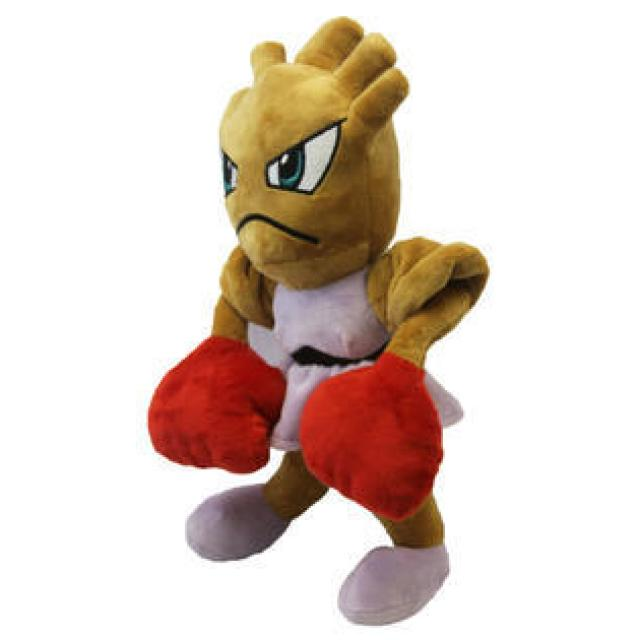Hitmonchan: (139, 31, 480, 594)
